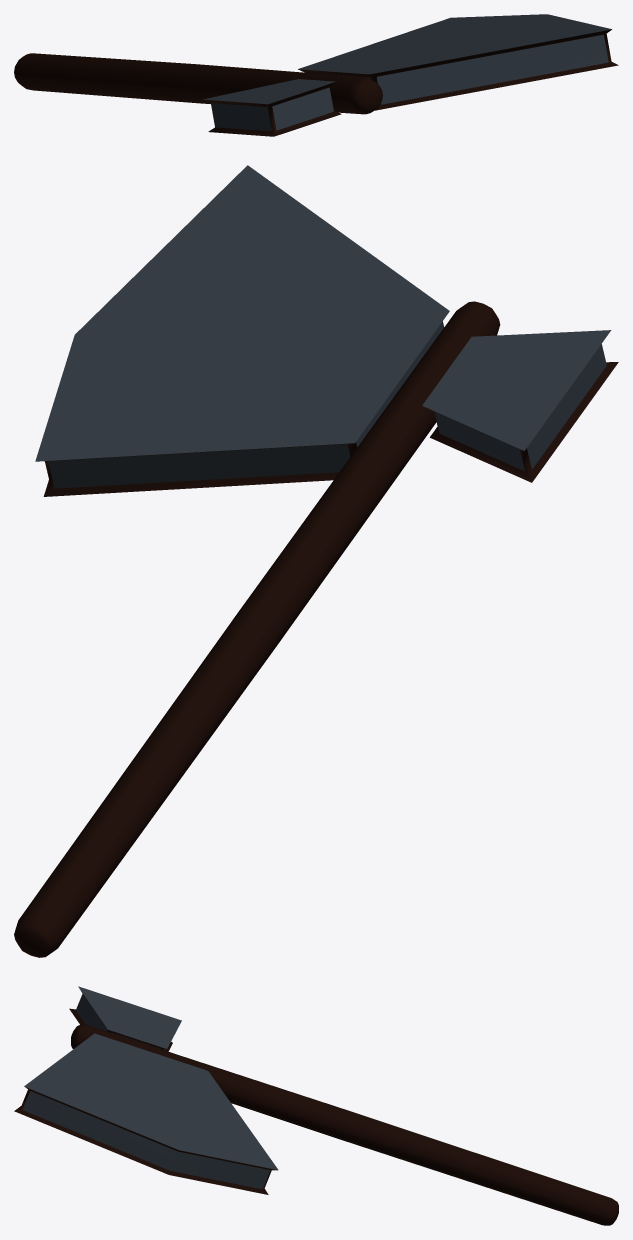
Rendered from Arma_MachadoGuerra.fbx.
3 renders of one model, top to bottom at view 1: azimuth 30°, elevation 25°; view 2: azimuth 150°, elevation 25°; view 3: azimuth 270°, elevation 25°, orthographic. The views are drawn at different scales.
Visible parts, largest first — view 1: Piece; view 2: Piece; view 3: Piece.
Part boxes in pixels (x1,y1,x2,y2): Piece: (14,14,618,136); Piece: (14,165,618,957); Piece: (14,986,618,1225).
Bounding box in the file's own units: 0.4291 × 0.3321 × 0.8307.
